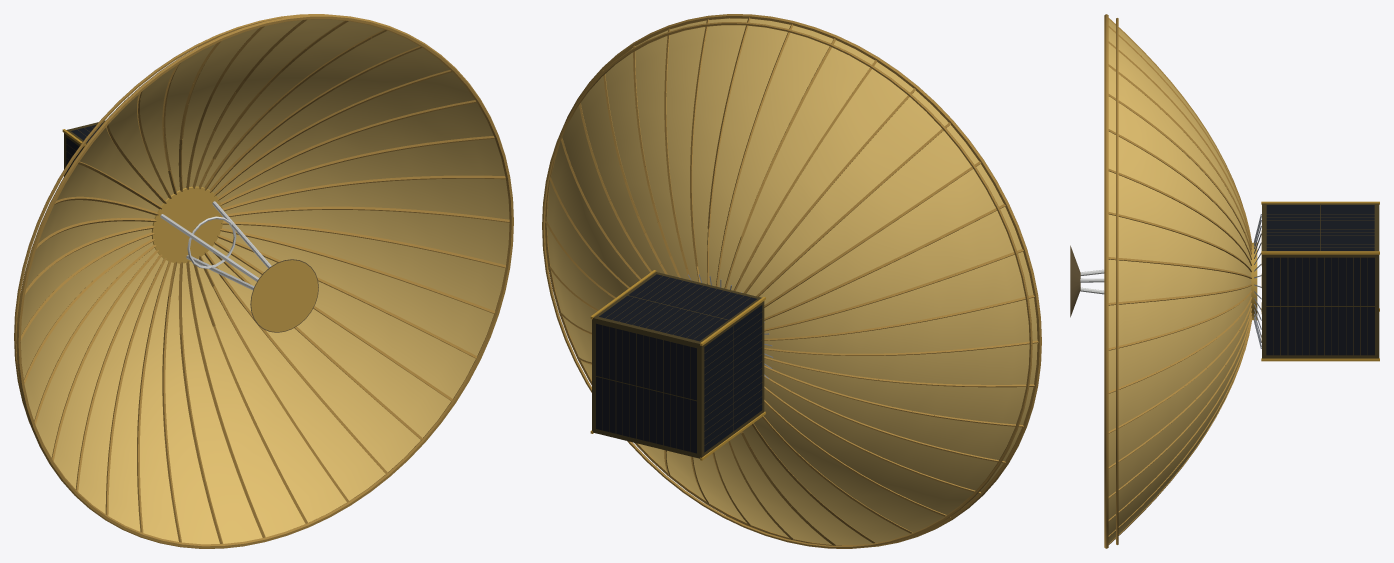
File: qps-sar.glb
3 renders of one model, left to right at view 1: azimuth 30°, elevation 25°; view 2: azimuth 150°, elevation 25°; view 3: azimuth 270°, elevation 25°, orthographic. The views are drawn at different scales.
Parts seen in each view (by area): view 1: foil, body; view 2: foil, body, solar-panel; view 3: foil, body, solar-panel.
Boxes of the visible parts, left/top/right/bottom form: foil: left=21, top=19, right=509, bottom=544; body: left=14, top=14, right=513, bottom=548; foil: left=547, top=18, right=1037, bottom=545; body: left=542, top=14, right=1041, bottom=548; solar-panel: left=596, top=274, right=762, bottom=453; foil: left=1108, top=19, right=1261, bottom=543; body: left=1070, top=14, right=1379, bottom=548; solar-panel: left=1266, top=205, right=1374, bottom=355.
Bounding box in the file's own units: 3.63 × 3.63 × 2.1.
